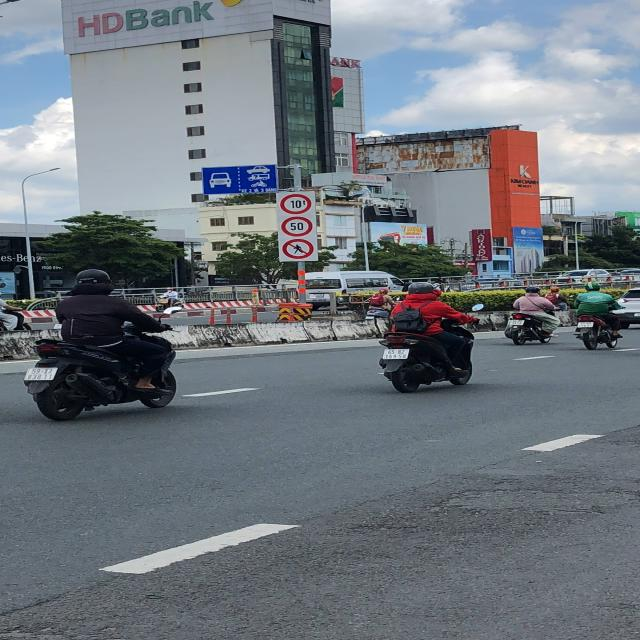Bien bao cam nguoi di bo: (280, 238, 316, 261)
Bien bao toc do toi da cho phep: (282, 217, 316, 237)
